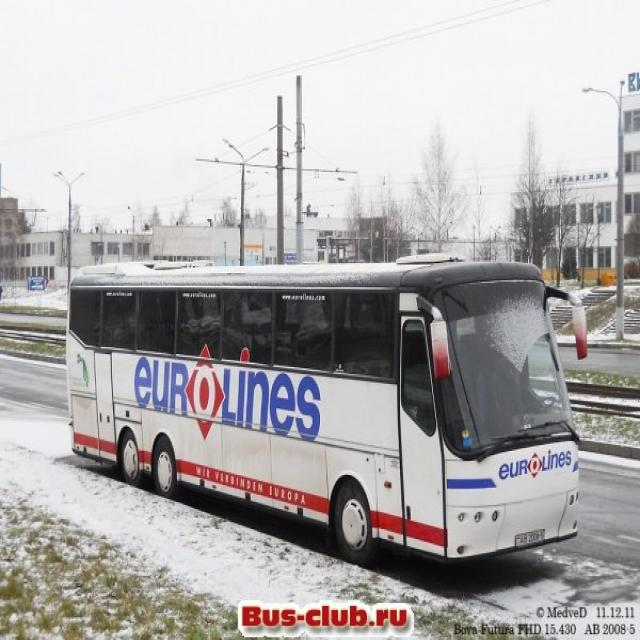bus: (57, 250, 596, 578)
